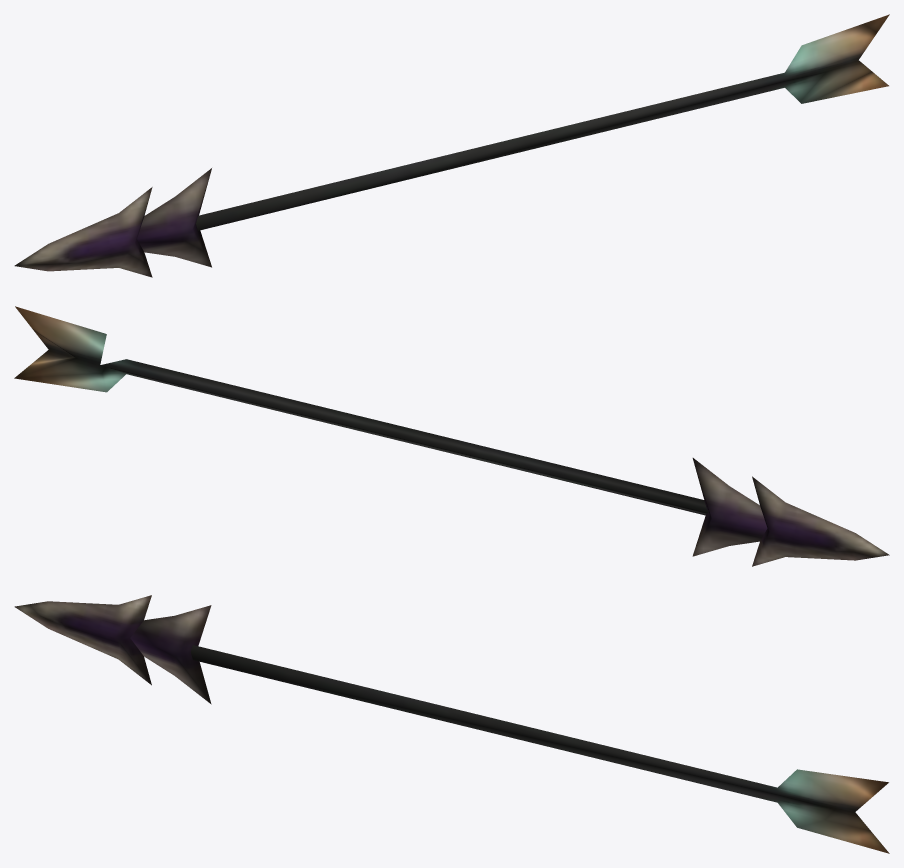
File: commandArrowV.glb
The picture shows the model from 3 angles, top to bottom: view 1: azimuth 30°, elevation 25°; view 2: azimuth 150°, elevation 25°; view 3: azimuth 330°, elevation 25°; orthographic projection.
Visible parts, largest first — view 1: commandArrowV; view 2: commandArrowV; view 3: commandArrowV.
Boxes of the visible parts, x1,y1,x2,y2 form: commandArrowV: (14,14,889,277); commandArrowV: (14,306,889,566); commandArrowV: (14,595,889,853).
Size of the model in its own units: 1.16 by 0.1265 by 0.0347.
Materials: 1 (1 with a texture image).
